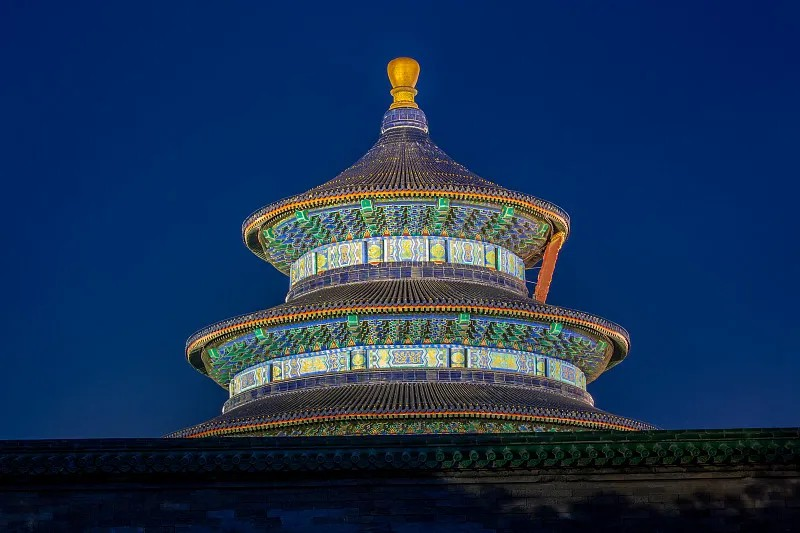Heaven: (158, 56, 660, 438)
